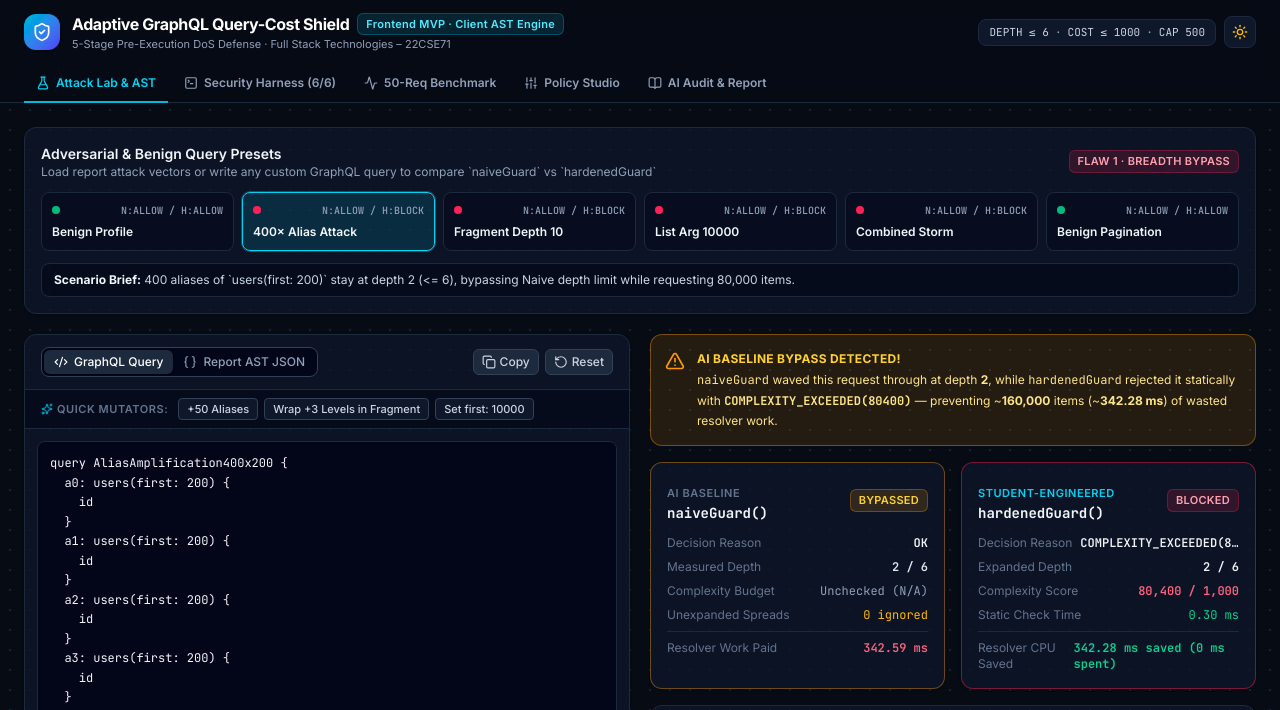
Adaptive GraphQL Query-Cost Shield UI › switches to Security Harness and displays 6/6 canonical tests passing
What coordinates should you click on to do the following:
click the button "Security Harness (6/6)"
I would click on:
 (260, 84)
Its box is [172,64,348,102].
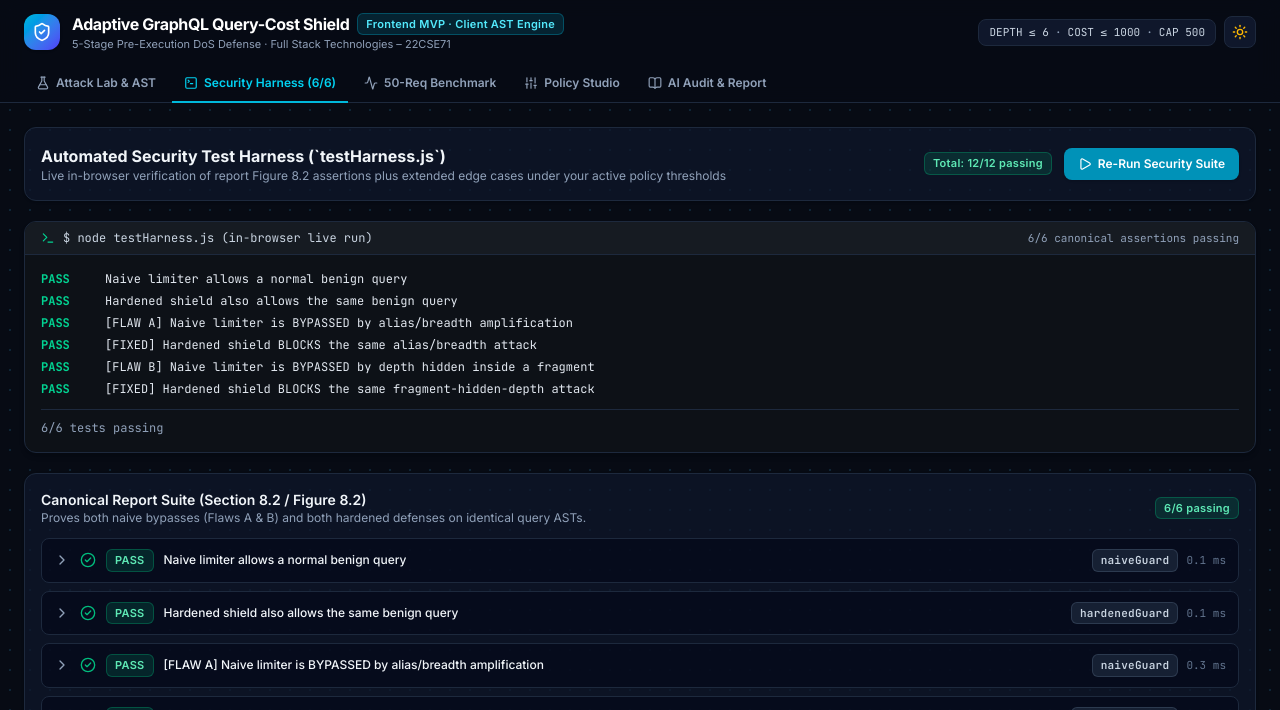
Expected: the heading "Automated Security Test Harness (`testHarness.js`)" is shown, [41,146,446,166]
Expected: the text "6/6 tests passing" is shown, [41,409,1239,436]
